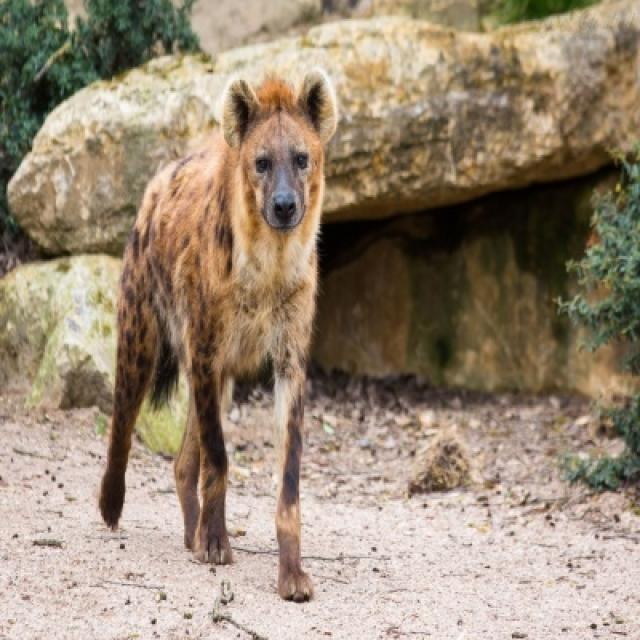hyena: (98, 70, 342, 605)
